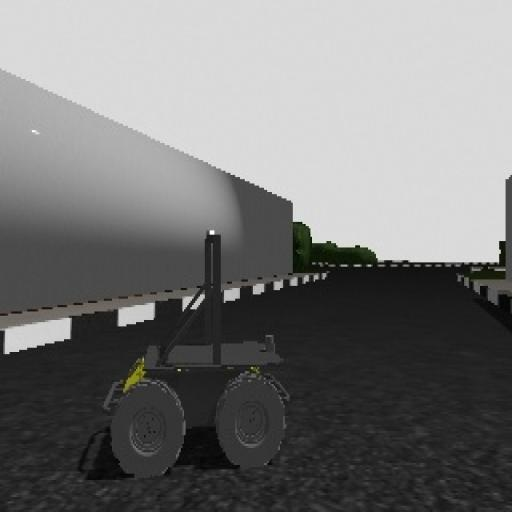huskya200: (84, 222, 306, 480)
